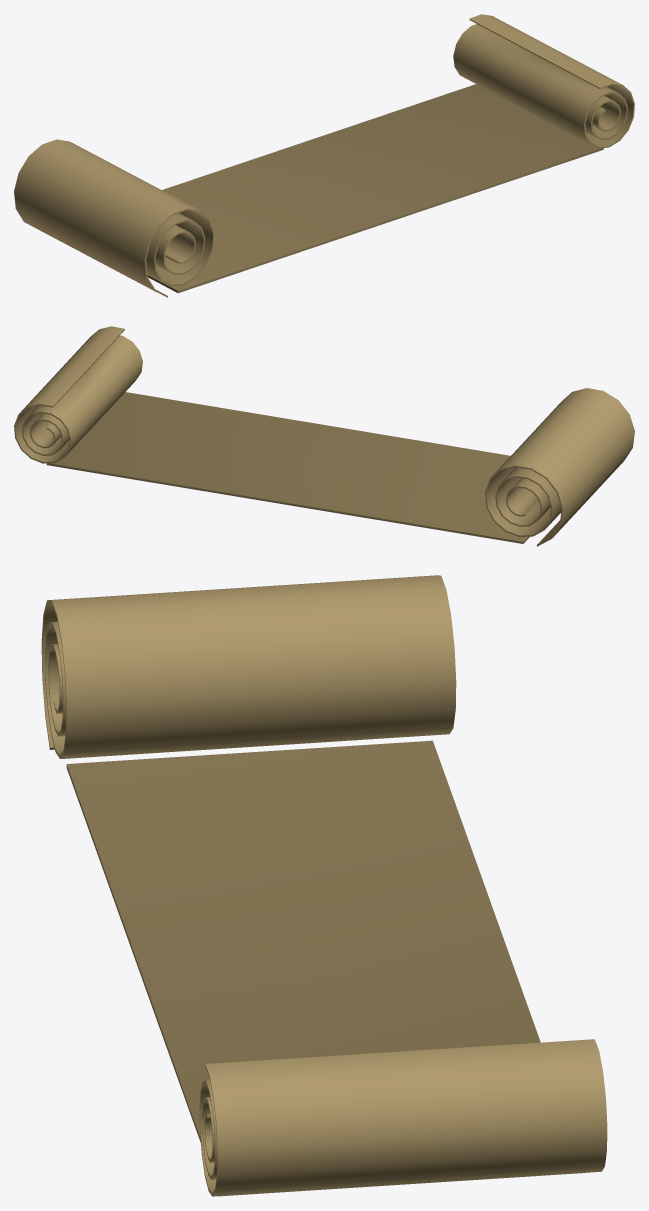
File: scroll.glb
The picture shows the model from 3 angles, top to bottom: view 1: azimuth 30°, elevation 25°; view 2: azimuth 150°, elevation 25°; view 3: azimuth 270°, elevation 25°; orthographic projection. The views are drawn at different scales.
Parts seen in each view (by area): view 1: tex_sheet, base; view 2: tex_sheet, base; view 3: base, tex_sheet.
Boxes of the visible parts, left/top/right/bottom form: tex_sheet: left=147, top=84, right=600, bottom=290; base: left=14, top=14, right=634, bottom=297; tex_sheet: left=50, top=392, right=527, bottom=541; base: left=14, top=326, right=634, bottom=546; base: left=41, top=575, right=607, bottom=1196; tex_sheet: left=67, top=740, right=540, bottom=1137.
Size of the model in its own units: 0.311 by 0.0447 by 0.1436.
